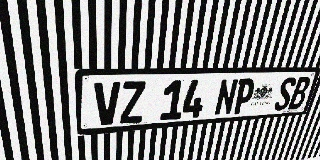1: (160, 80, 186, 120)
4: (181, 79, 207, 119)
B: (288, 77, 312, 110)
N: (214, 79, 239, 116)
P: (232, 78, 257, 114)
S: (273, 77, 297, 111)
V: (94, 82, 120, 126)
Z: (120, 81, 146, 124)
